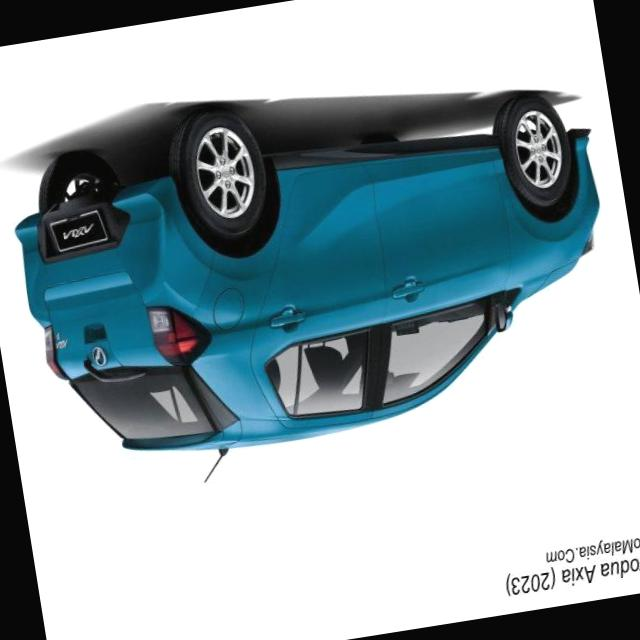PeroduaAxia: (0, 47, 638, 507)
